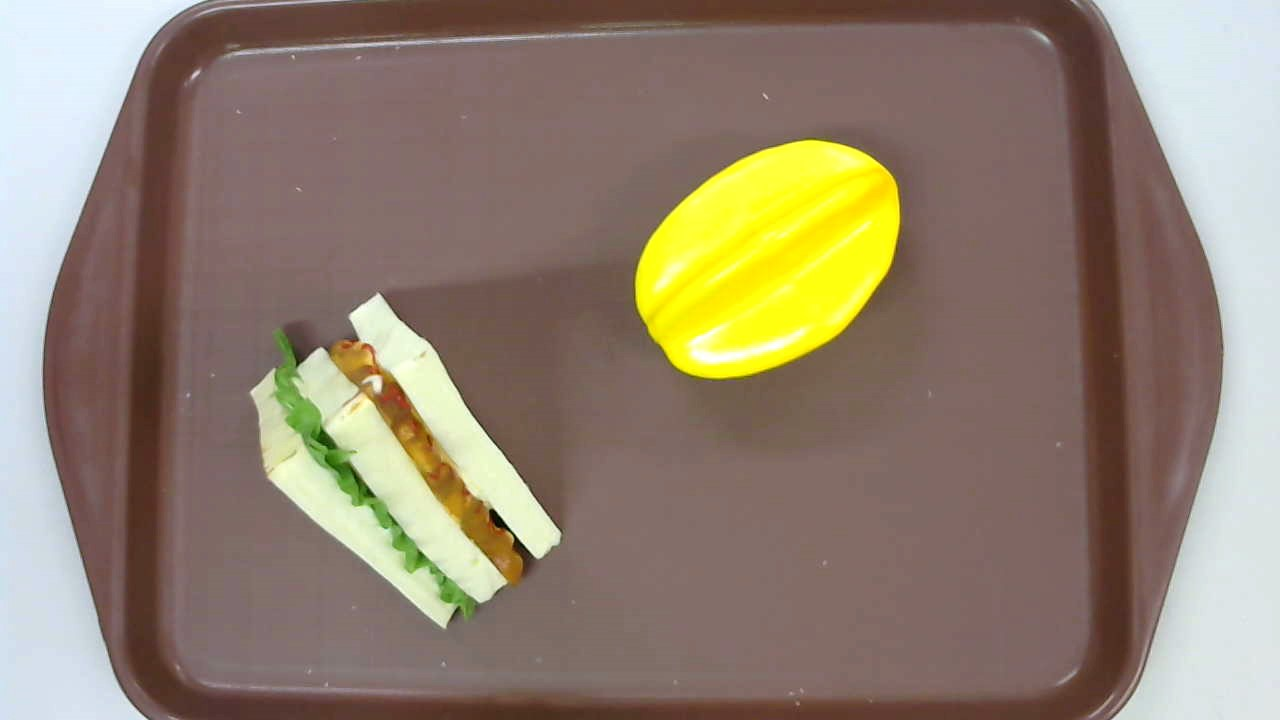sandwich: (249, 292, 562, 630)
star fruit: (635, 139, 900, 384)
